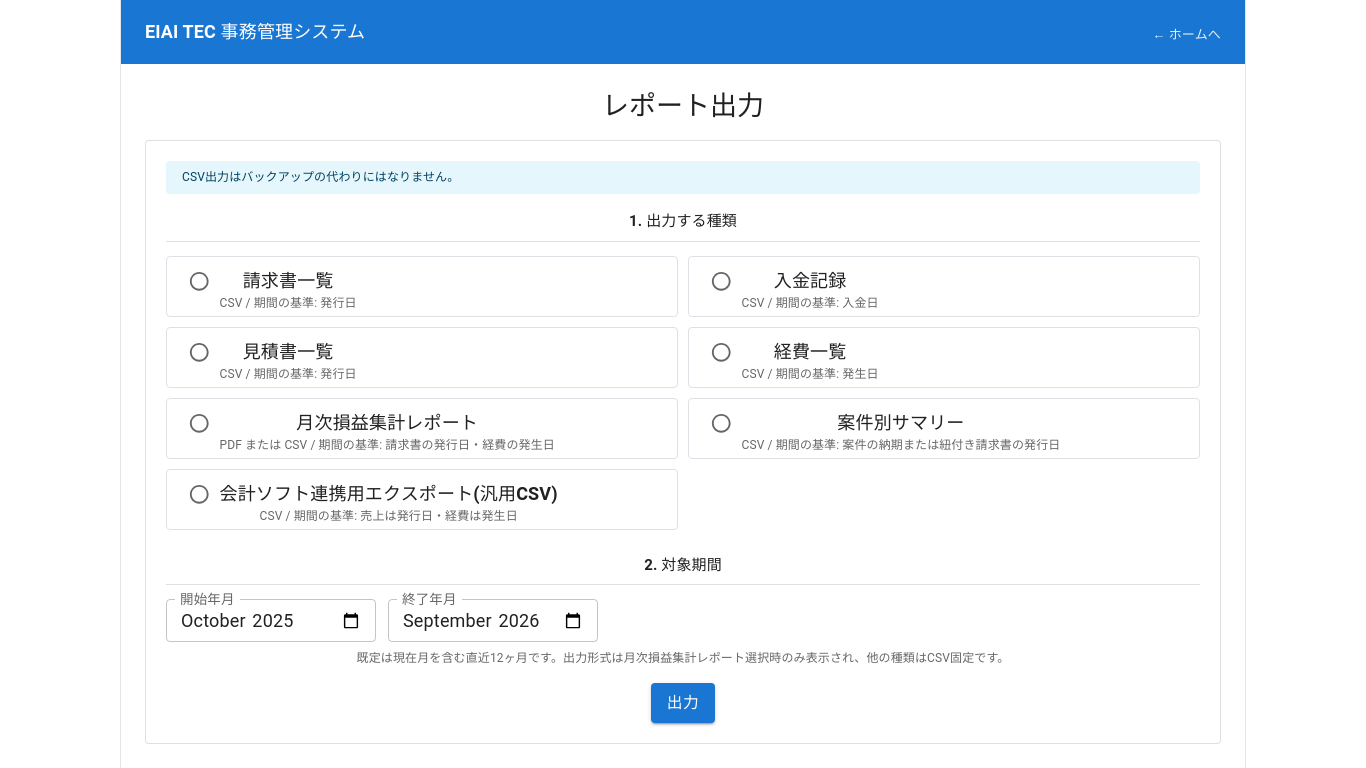
Test: ReportExportPage (SC-18) › 出力形式は月次損益集計レポート選択時のみ表示する
Click the radio button labelled "請求書一覧 CSV / 期間の基準: 発行日": (272,290) [188,270,357,310]
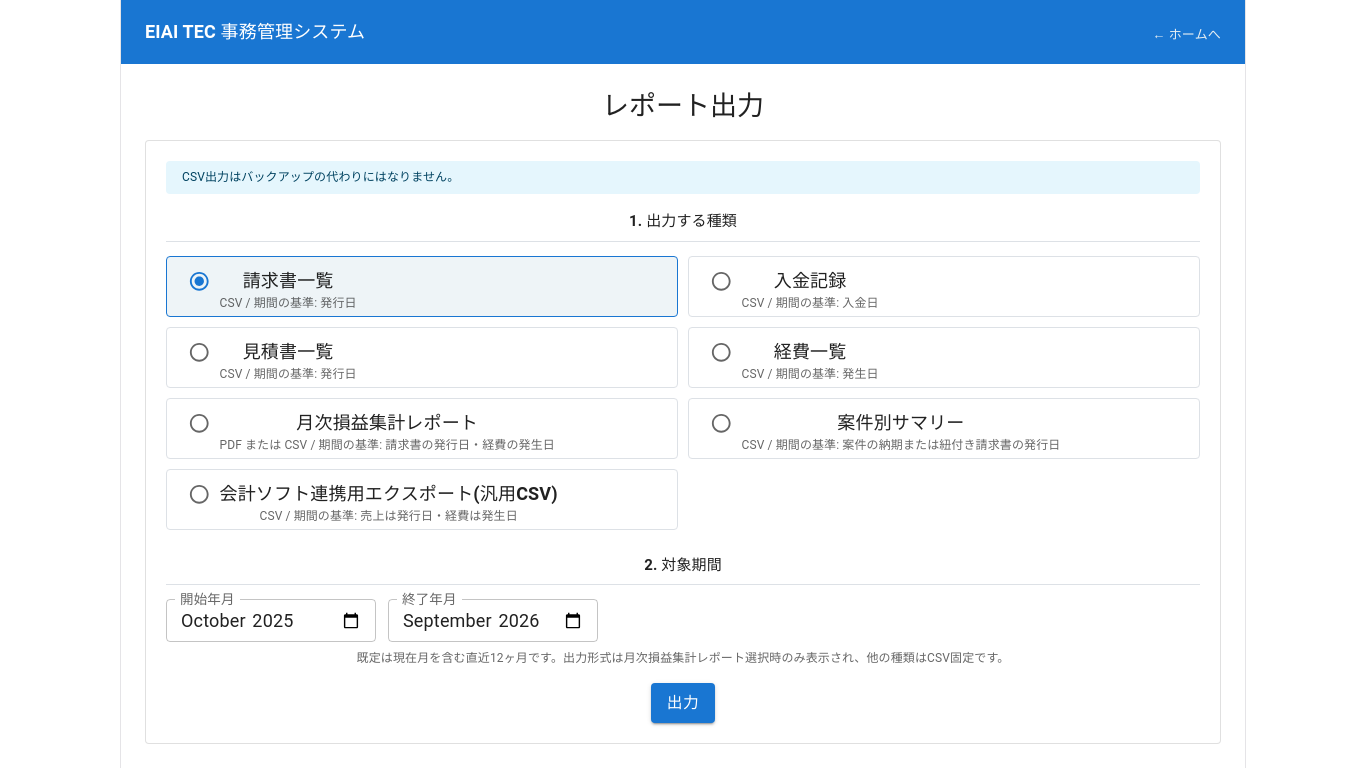
Click the radio button labelled "月次損益集計レポート PDF または CSV / 期間の基準: 請求書の発行日・経費の発生日": (371,432) [188,412,555,452]
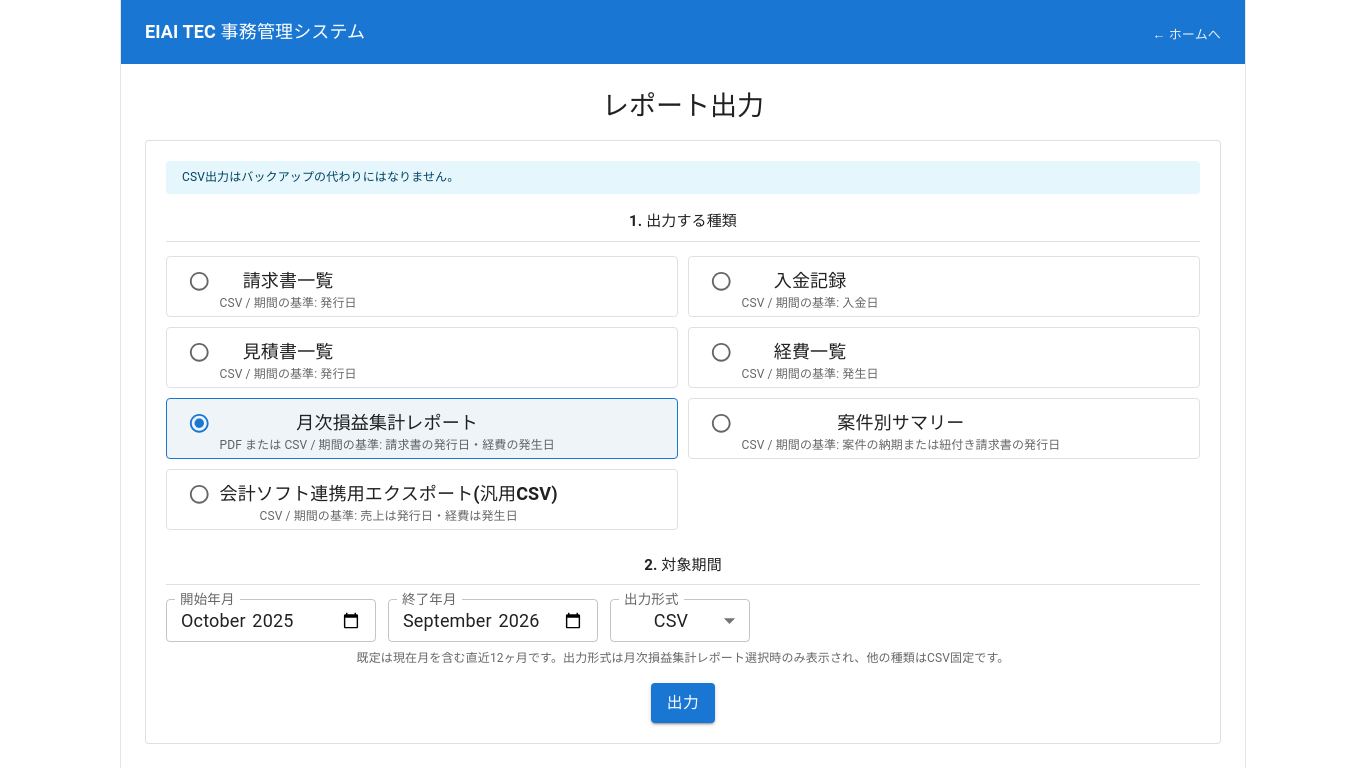
Now the dropdown named "出力形式" is shown, box [654,610,688,631]
